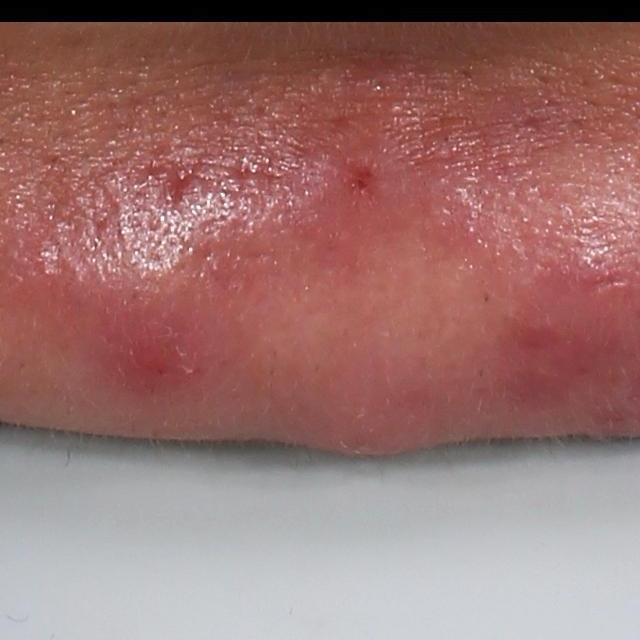nodule: (34, 218, 259, 411)
